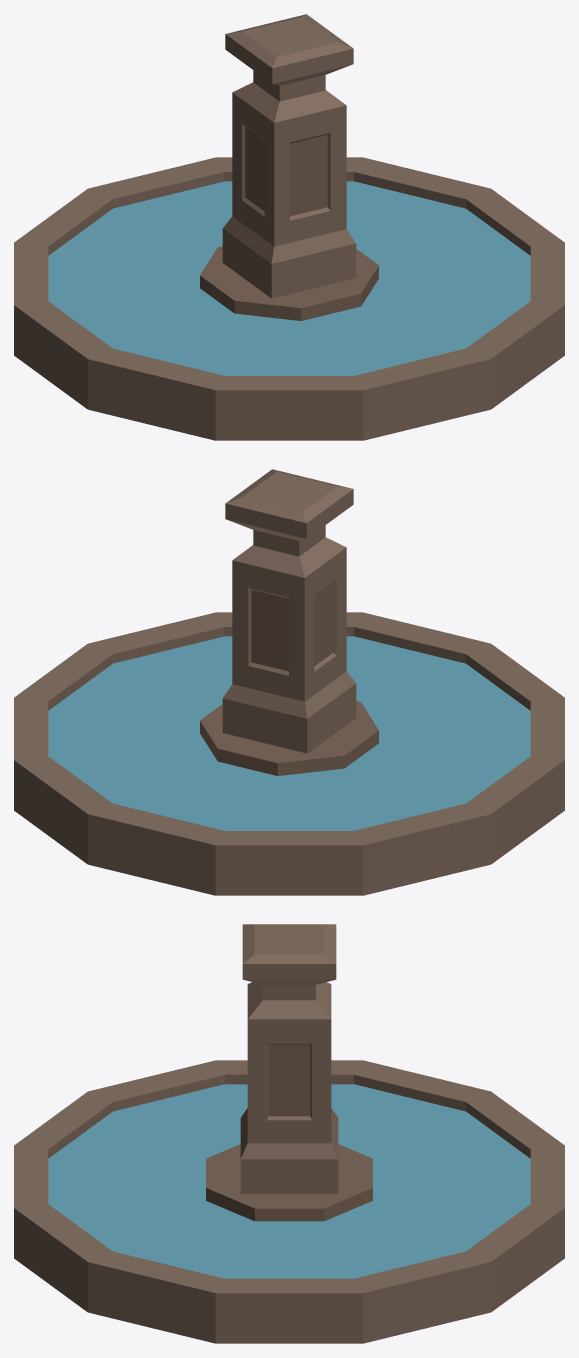
File: Fountain_01.fbx
3 views of the same model, one above another, from view 1: azimuth 30°, elevation 25°; view 2: azimuth 150°, elevation 25°; view 3: azimuth 270°, elevation 25° (orthographic).
Parts seen in each view (by area): view 1: Fountain_01; view 2: Fountain_01; view 3: Fountain_01.
Boxes of the visible parts, x1=… form: Fountain_01: x1=14, y1=14, x2=564, y2=440; Fountain_01: x1=14, y1=469, x2=564, y2=895; Fountain_01: x1=14, y1=924, x2=564, y2=1343.
Bounding box in the file's own units: 420 × 242 × 420.
